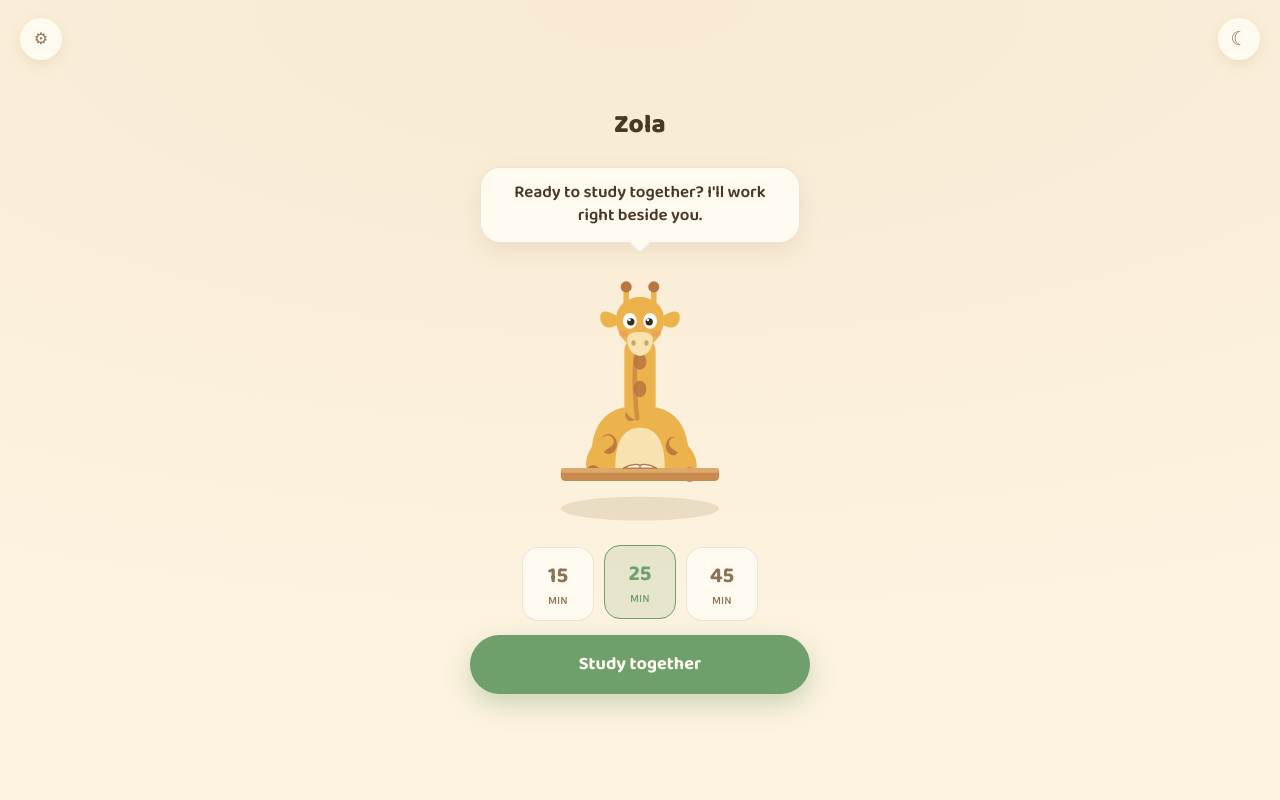
Test case: the study-together loop › starts a session and counts down
Expected: the heading "Zola" is shown, x1=614 y1=106 x2=666 y2=145
Click the button "Study together": [640, 664] box x1=470 y1=635 x2=810 y2=694
Wait 3000 ms
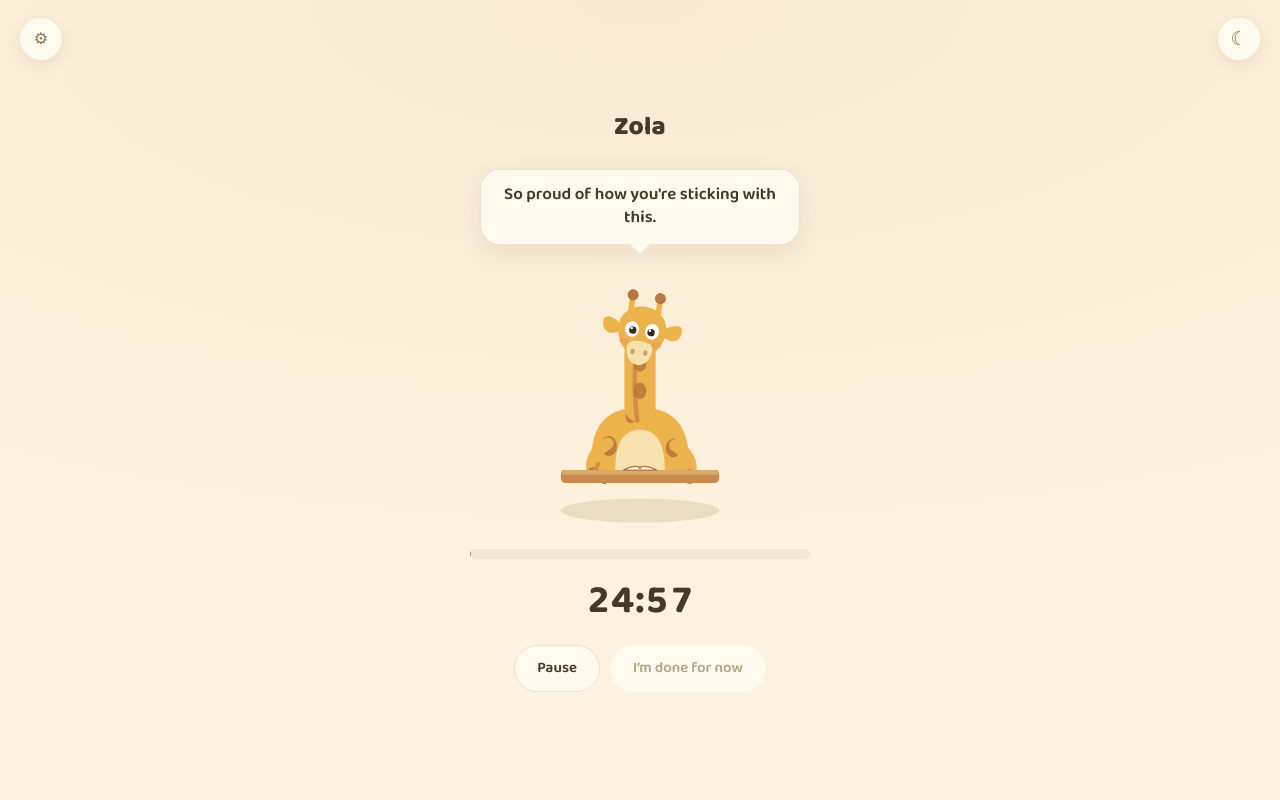
Expected: the text "24:57" is shown, x1=586 y1=571 x2=694 y2=631
